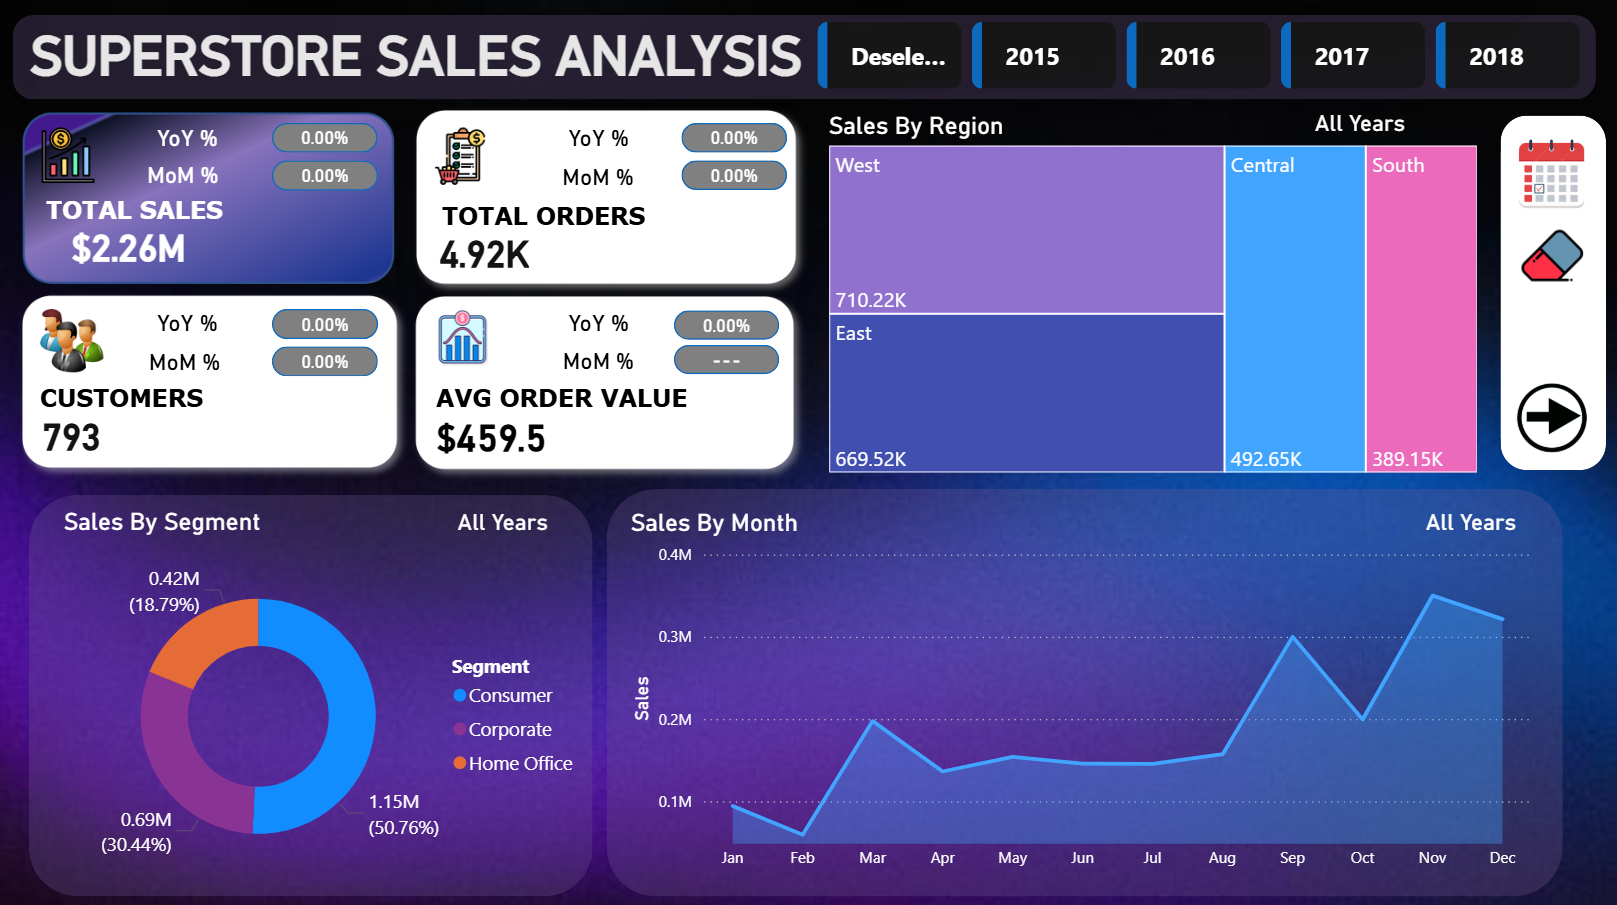

This screenshot's page, from the dashboard's own definition file:
{"tool":"powerbi","page":{"name":"Dashboard 1","canvas":[1280,720],"ordinal":0},"visuals":[{"type":"shape","box":[11.1,14.3,1250.2,66.8],"z":0},{"type":"textbox","box":[9.5,15.9,639.4,62],"z":1000},{"type":"image","box":[0,90.7,330.8,135.2],"z":2000},{"type":"image","box":[325,86.7,316.7,150],"z":3000},{"type":"image","box":[15,231.7,308.3,150],"z":4000},{"type":"image","box":[322.9,233.8,316.5,149.5],"z":5000},{"type":"textbox","box":[26.7,300,195,40],"z":6000},{"type":"textbox","box":[340,300,255,40],"z":7000},{"type":"shape","box":[35,159.1,133.6,79.5],"z":8000},{"type":"textbox","box":[31.7,151.7,176.7,40],"z":9000},{"type":"textbox","box":[345,156.7,193.3,40],"z":10000},{"type":"cardVisual","fields":{"Data":["Key Measures.Total_Orders"]},"box":[318.3,155,165,93.3],"z":11000},{"type":"cardVisual","fields":{"Data":["Key Measures.Total_Customers"]},"box":[5,300,141.7,93.3],"z":12000},{"type":"shape","box":[305,306.7,166.7,81.7],"z":13000},{"type":"shape","box":[88.8,83.8,120,53.8],"z":14000},{"type":"shape","box":[403,85.1,141.8,52.7],"z":15000},{"type":"shape","box":[83,230.9,131.6,52.7],"z":16000},{"type":"shape","box":[54.7,261.3,184.3,52.7],"z":17000},{"type":"shape","box":[403,230.9,141.8,52.7],"z":18000},{"type":"shape","box":[215,100,83.3,23.3],"z":19000},{"type":"image","box":[31.7,98.3,45,53.3],"z":20000},{"type":"image","box":[328.3,103.3,71.7,45],"z":21000},{"type":"image","box":[28.3,246.7,58.3,50],"z":22000},{"type":"image","box":[331.7,246.7,70,45],"z":23000},{"type":"advancedSlicerVisual","fields":{"Values":["train.Year_Filter"]},"box":[641,14.3,615.6,63.6],"z":24000},{"type":"shape","box":[381.1,114.4,183.3,53.3],"z":25000},{"type":"shape","box":[381,260,184,53],"z":26000},{"type":"shape","box":[53.8,115,183.8,51.2],"z":27000},{"type":"shape","box":[215,128.8,83.8,23.8],"z":28000},{"type":"shape","box":[215,246.2,83.8,23.8],"z":29000},{"type":"shape","box":[215.5,275.5,83.6,23.6],"z":30000},{"type":"shape","box":[538.9,100,83.3,23.3],"z":31000},{"type":"shape","box":[538.9,128.9,83.3,23.3],"z":32000},{"type":"shape","box":[533,247,83,23],"z":33000},{"type":"shape","box":[533,275,83,23],"z":34000},{"type":"shape","box":[23.3,393.3,445,316.7],"z":35000},{"type":"treemap","title":"Sales By Region","fields":{"Values":["Sum(train.Sales)"],"Group":["train.Region"]},"box":[650,90,521.7,290],"z":36000},{"type":"donutChart","title":"Sales By Segment","fields":{"Category":["train.Segment"],"Y":["Sum(train.Sales)"]},"box":[46.6,403,421.3,307.8],"z":37000},{"type":"shape","box":[480,388.3,755,321.7],"z":38000},{"type":"shape","box":[1185,93.3,83.3,280],"z":39000},{"type":"lineChart","title":"Sales By Month","fields":{"Category":["train.Month_Filter"],"Y":["Sum(train.Sales)"]},"box":[493.3,403.3,720,293.3],"z":40000},{"type":"image","box":[1183.3,85,85,110],"z":41000},{"type":"actionButton","box":[1195,116.7,60,51.7],"z":42000},{"type":"image","box":[1201.7,176.7,48.3,55],"z":44000},{"type":"image","box":[1193.3,298.3,63.3,70],"z":45000},{"type":"shape","box":[334.2,388.9,127.6,52.7],"z":46000},{"type":"shape","box":[1097.5,388.1,128.8,52.5],"z":47000},{"type":"shape","box":[1010,73.2,128.8,52.5],"z":48000}]}

Visuals, with their boxes in screenshot pixels (x1, y1, x2, y2), scaled from the page's 1280x720 canvas onto the 1617x905 screenshot:
shape: Rect(14, 18, 1593, 102)
textbox: Rect(12, 20, 820, 98)
image: Rect(0, 114, 418, 284)
image: Rect(411, 109, 811, 298)
image: Rect(19, 291, 408, 480)
image: Rect(408, 294, 808, 482)
textbox: Rect(34, 377, 280, 427)
textbox: Rect(430, 377, 752, 427)
shape: Rect(44, 200, 213, 300)
textbox: Rect(40, 191, 263, 241)
textbox: Rect(436, 197, 680, 247)
cardVisual - Key Measures.Total_Orders: Rect(402, 195, 611, 312)
cardVisual - Key Measures.Total_Customers: Rect(6, 377, 185, 494)
shape: Rect(385, 386, 596, 488)
shape: Rect(112, 105, 264, 173)
shape: Rect(509, 107, 688, 173)
shape: Rect(105, 290, 271, 356)
shape: Rect(69, 328, 302, 395)
shape: Rect(509, 290, 688, 356)
shape: Rect(272, 126, 377, 155)
image: Rect(40, 124, 97, 191)
image: Rect(415, 130, 505, 186)
image: Rect(36, 310, 109, 373)
image: Rect(419, 310, 507, 367)
advancedSlicerVisual - train.Year_Filter: Rect(810, 18, 1587, 98)
shape: Rect(481, 144, 713, 211)
shape: Rect(481, 327, 714, 393)
shape: Rect(68, 145, 300, 209)
shape: Rect(272, 162, 377, 192)
shape: Rect(272, 309, 377, 339)
shape: Rect(272, 346, 378, 376)
shape: Rect(681, 126, 786, 155)
shape: Rect(681, 162, 786, 191)
shape: Rect(673, 310, 778, 339)
shape: Rect(673, 346, 778, 375)
shape: Rect(29, 494, 592, 892)
"Sales By Region" treemap: Rect(821, 113, 1480, 478)
"Sales By Segment" donutChart: Rect(59, 507, 591, 893)
shape: Rect(606, 488, 1560, 892)
shape: Rect(1497, 117, 1602, 469)
"Sales By Month" lineChart: Rect(623, 507, 1533, 876)
image: Rect(1495, 107, 1602, 245)
actionButton: Rect(1510, 147, 1585, 212)
image: Rect(1518, 222, 1579, 291)
image: Rect(1507, 375, 1587, 463)
shape: Rect(422, 489, 583, 555)
shape: Rect(1386, 488, 1549, 554)
shape: Rect(1276, 92, 1439, 158)
